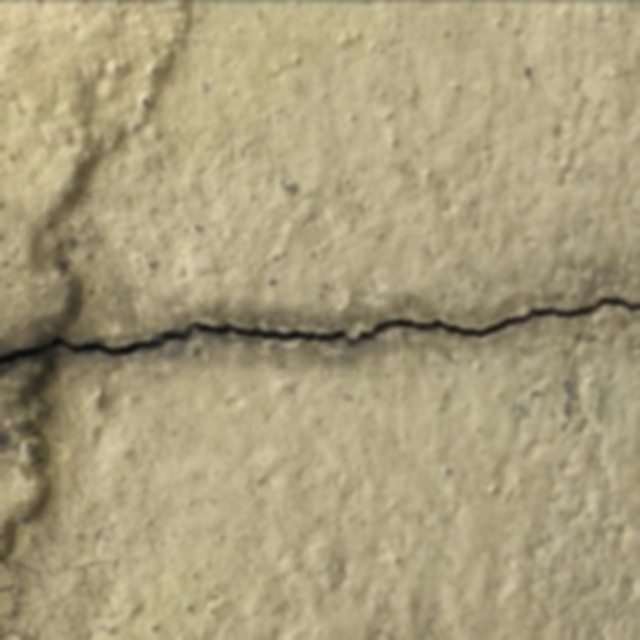SurfaceCrack: (0, 248, 639, 423)
